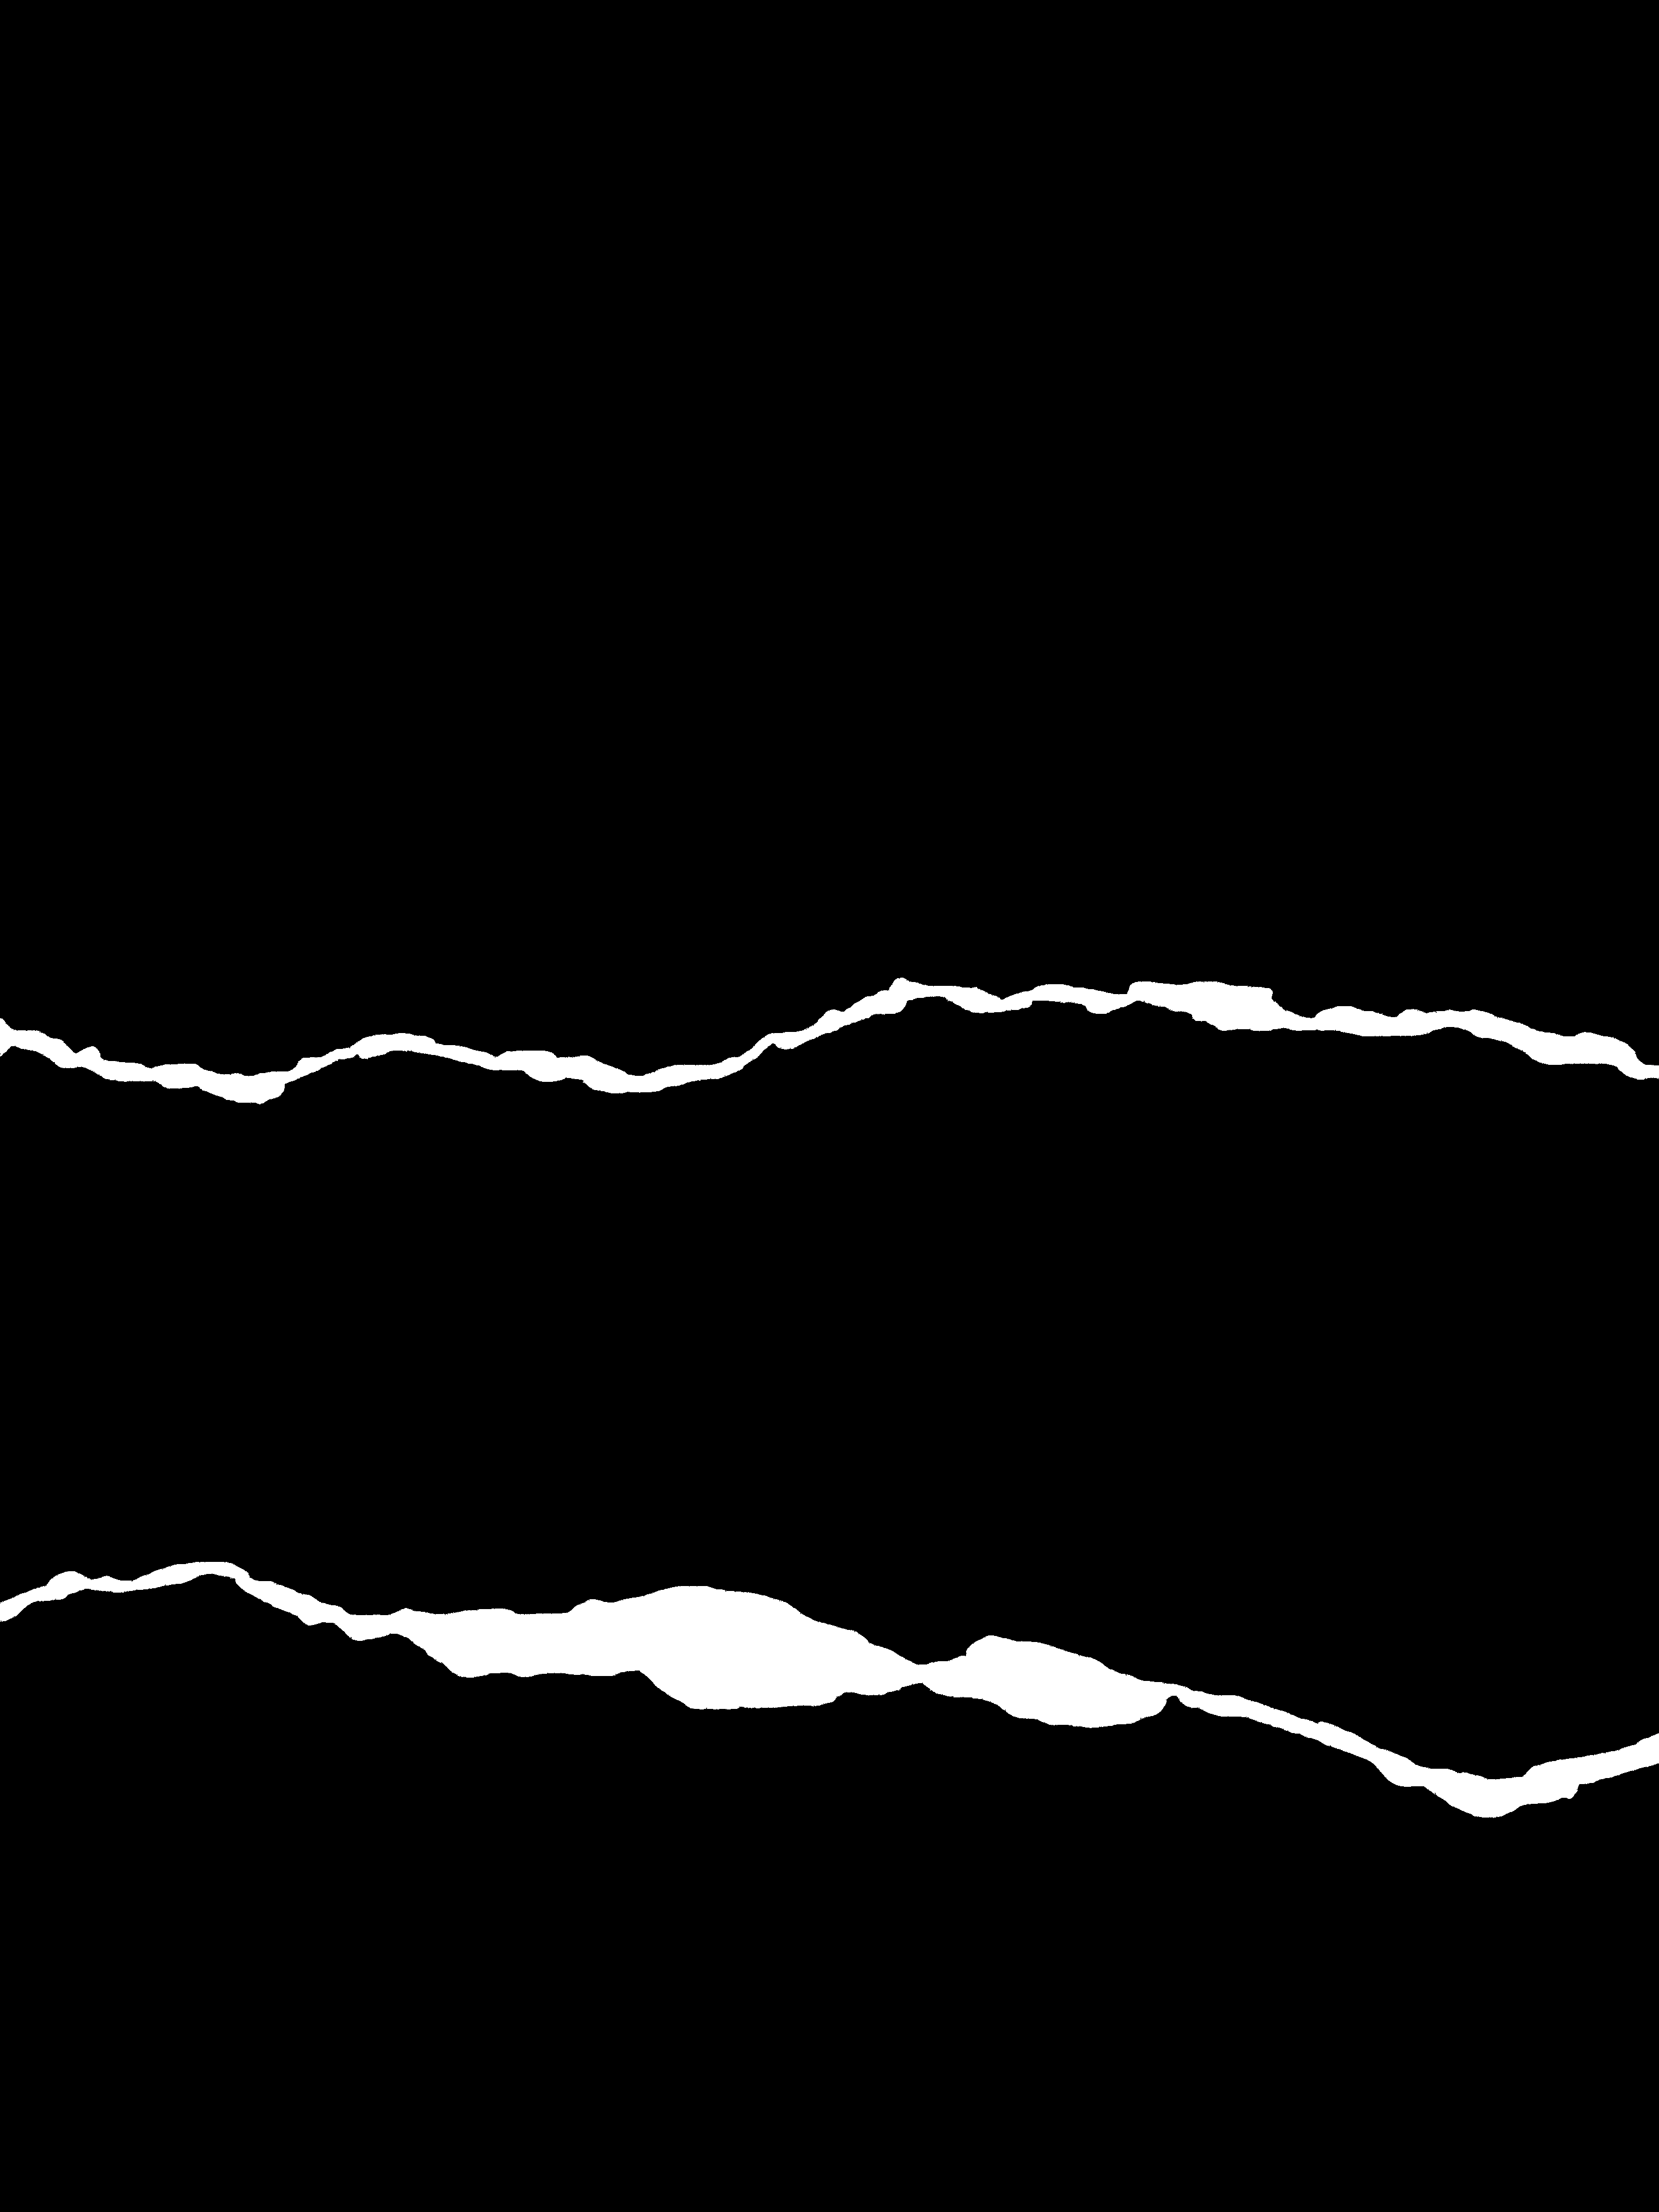Crack: (0, 1529, 1659, 1831), (0, 934, 1659, 1132)
